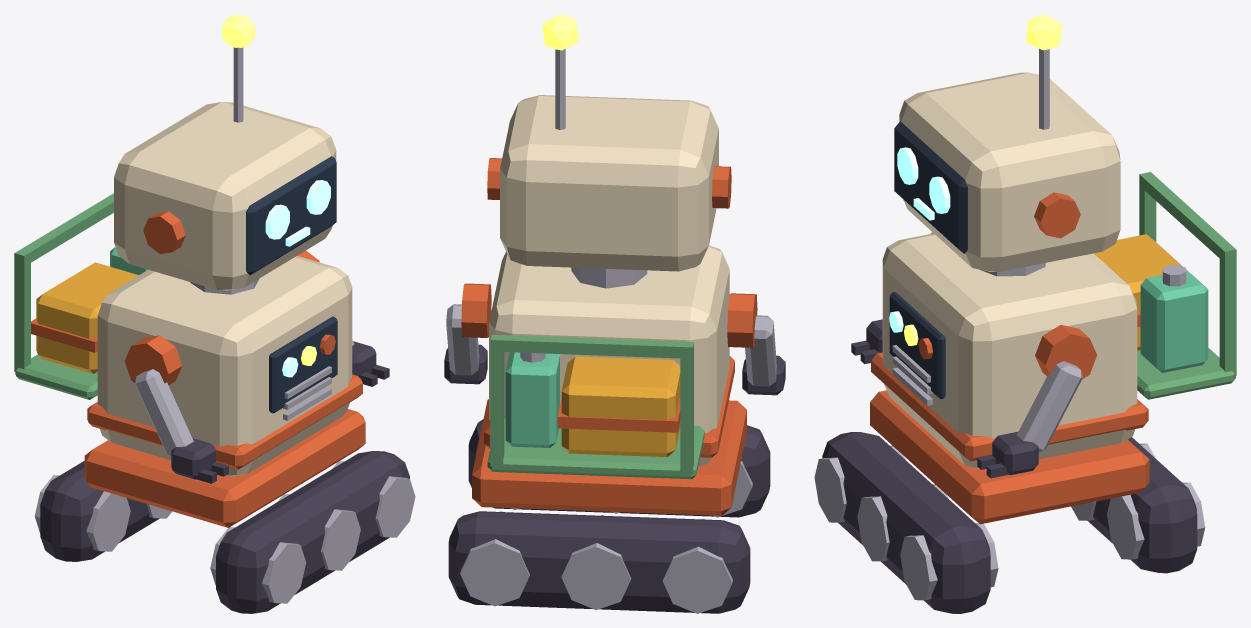
File: MOONSHIFT_CHR_BEEP_Robot.glb
3 renders of one model, left to right at view 1: azimuth 30°, elevation 25°; view 2: azimuth 150°, elevation 25°; view 3: azimuth 270°, elevation 25°, orthographic. The views are drawn at different scales.
Visible parts, largest first — view 1: BEEP_Body, BEEP_Head, BEEP_Tread_L, BEEP_Chassis, BEEP_RackBox, BEEP_Tread_R, BEEP_Visor, BEEP_BellyBand, BEEP_ChestPanel, BEEP_UpperArm_L, BEEP_Wheel_L0, BEEP_Wheel_R0 (+14 smaller); view 2: BEEP_Head, BEEP_Body, BEEP_Tread_R, BEEP_Chassis, BEEP_RackBox, BEEP_RackPlate, BEEP_RackBattery, BEEP_RackRail, BEEP_Wheel_R0, BEEP_Wheel_R2, BEEP_Wheel_R1, BEEP_Tread_L (+16 smaller); view 3: BEEP_Body, BEEP_Head, BEEP_Tread_L, BEEP_Chassis, BEEP_Tread_R, BEEP_RackBattery, BEEP_BellyBand, BEEP_Visor, BEEP_UpperArm_R, BEEP_RackBox, BEEP_RackPlate, BEEP_ChestPanel (+14 smaller).
Boxes of the visible parts, box(x1,y1,x2,y2) form: BEEP_Body: box(97, 256, 352, 476); BEEP_Head: box(114, 102, 336, 290); BEEP_Tread_L: box(216, 451, 409, 613); BEEP_Chassis: box(84, 409, 365, 527); BEEP_RackBox: box(36, 262, 138, 373); BEEP_Tread_R: box(40, 461, 159, 561); BEEP_Visor: box(246, 156, 336, 275); BEEP_BellyBand: box(87, 374, 362, 469); BEEP_ChestPanel: box(269, 316, 337, 413); BEEP_UpperArm_L: box(135, 369, 193, 455); BEEP_Wheel_L0: box(210, 527, 306, 603); BEEP_Wheel_R0: box(34, 475, 130, 551); BEEP_Head: box(500, 95, 718, 271); BEEP_Body: box(489, 245, 729, 466); BEEP_Tread_R: box(448, 511, 750, 613); BEEP_Chassis: box(472, 399, 746, 515); BEEP_RackBox: box(561, 356, 680, 456); BEEP_RackPlate: box(487, 419, 704, 479); BEEP_RackBattery: box(505, 352, 559, 447); BEEP_RackRail: box(490, 334, 693, 358); BEEP_Wheel_R0: box(662, 518, 732, 613); BEEP_Wheel_R2: box(460, 511, 529, 606); BEEP_Wheel_R1: box(561, 515, 631, 609); BEEP_Tread_L: box(468, 419, 770, 517); BEEP_Body: box(882, 233, 1137, 469); BEEP_Head: box(899, 72, 1120, 271); BEEP_Tread_L: box(822, 432, 990, 613); BEEP_Chassis: box(870, 390, 1149, 524); BEEP_Tread_R: box(1087, 437, 1197, 573); BEEP_RackBattery: box(1140, 270, 1208, 372); BEEP_BellyBand: box(871, 352, 1148, 461); BEEP_Visor: box(894, 121, 967, 253); BEEP_UpperArm_R: box(1017, 361, 1082, 452); BEEP_RackBox: box(1094, 234, 1187, 350); BEEP_RackPlate: box(1137, 348, 1235, 399); BEEP_ChestPanel: box(889, 292, 945, 398).
Size of the model in its own units: 1.2 by 1.91 by 1.33.
